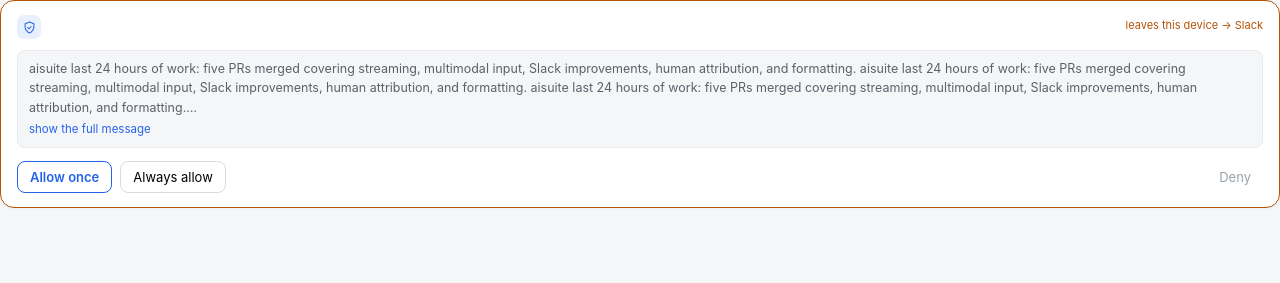
Test: ApprovalCard — §35 shapes › long single-paragraph send_message text is clamped, expandable, and never a wall
Step 1. Click the button "show the full message" → coordinates (90, 130), box [29,121,151,139]
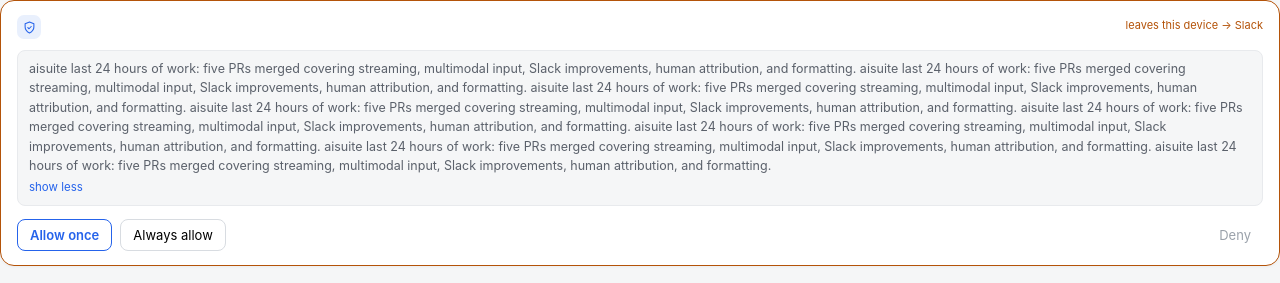
Expected: the button "show less" is shown, [29,179,83,197]
